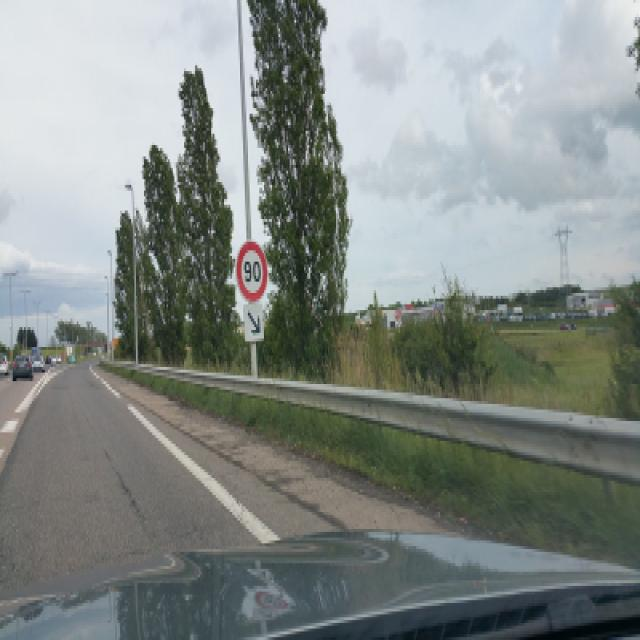speed_90: (236, 239, 270, 303)
turn_right: (244, 304, 264, 341)
